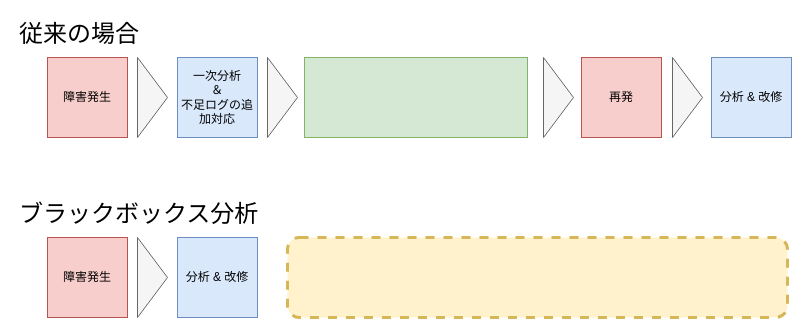
Some shapes in this 809 by 336 pixel diagram are drawn without their labels. Here are the shapes that lost their labels. From the top down, the centre of each, then its label:
At point (416, 97): "再発待ち".
At point (537, 277): "解決時間の短縮".
